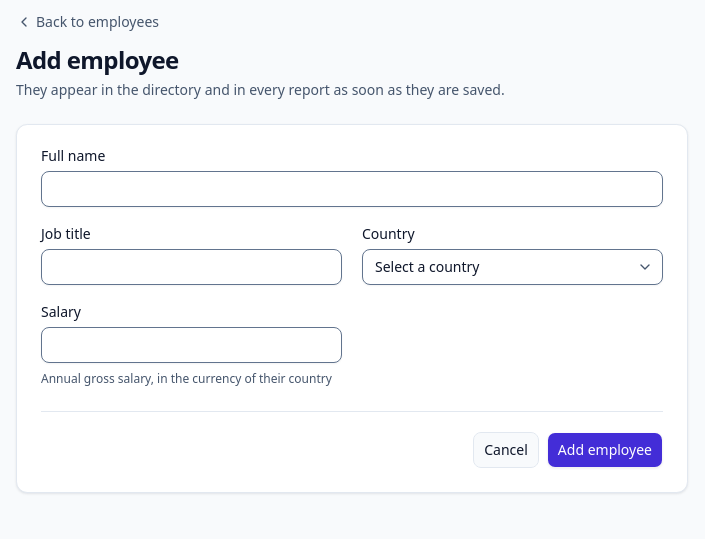
Test case: AddEmployeePage › stays on the form, with the server's error beside the field, when the API rejects the employee
In the field labelled "Full name": (352, 189) 41,171 -> 663,207, type "Asha Rao"
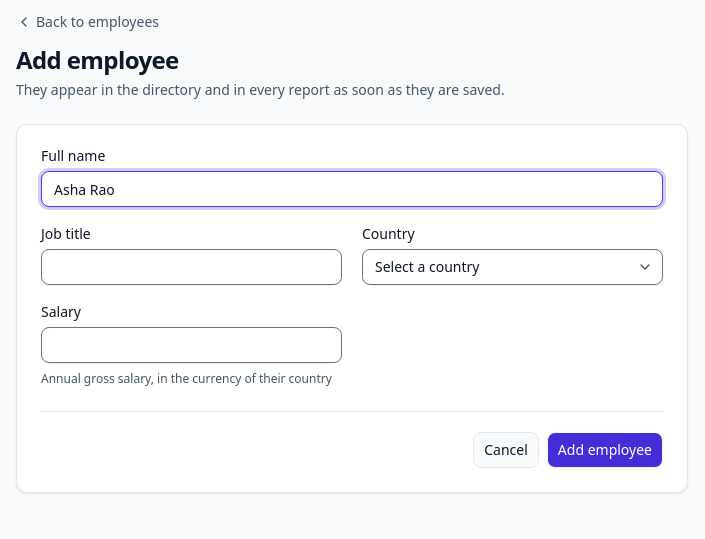
Click the dropdown labelled "Job title": (192, 267) 41,249 -> 342,285
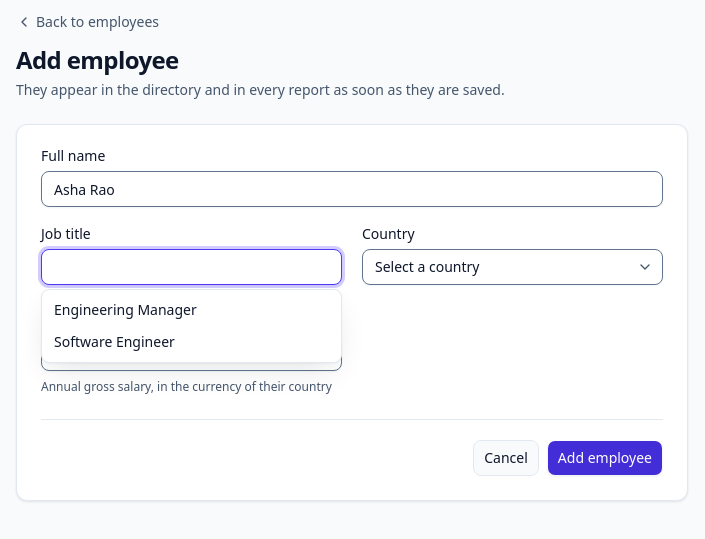
Type keys "Software Engineer"
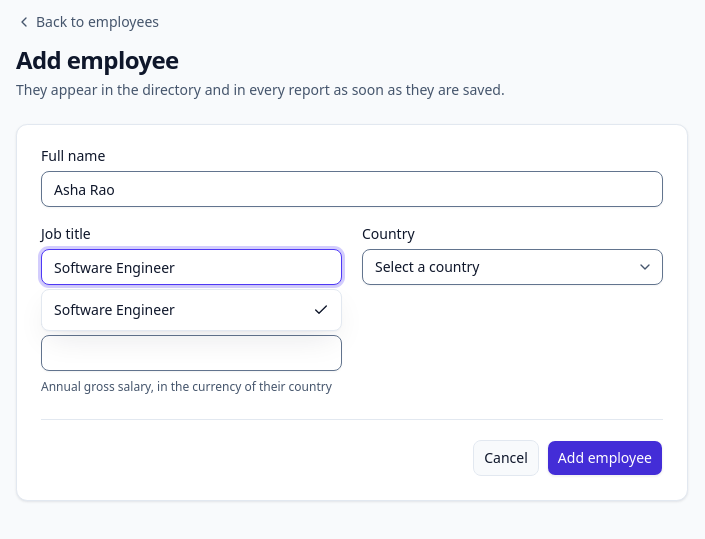
Select "India" in the dropdown labelled "Country": (512, 267) 362,249 -> 663,285
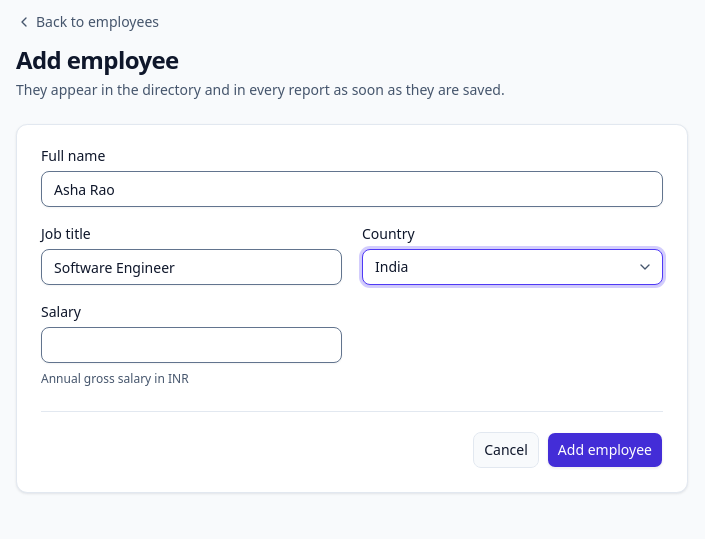
In the number field labelled "Salary": (192, 345) 41,327 -> 342,363, type "1500000"
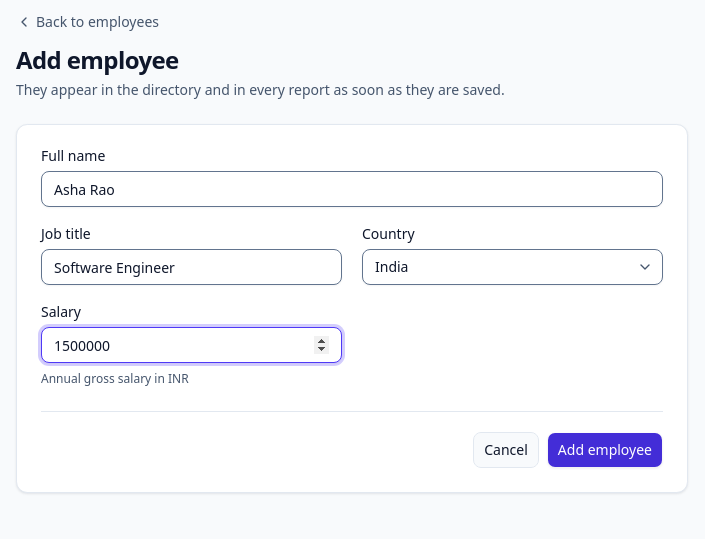
Click the button "Add employee": (605, 450) 547,432 -> 663,468
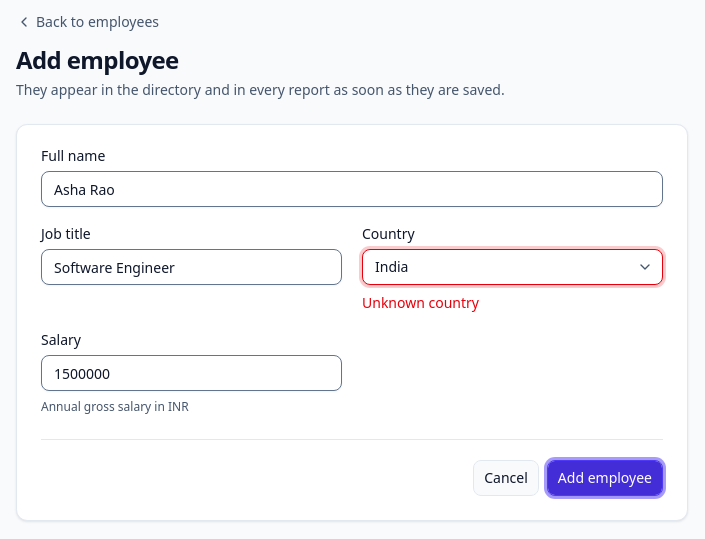
Expected: the heading "Add employee" is shown, 16,43 -> 179,76
Expected: the text "Unknown country" is shown, 362,293 -> 479,312
